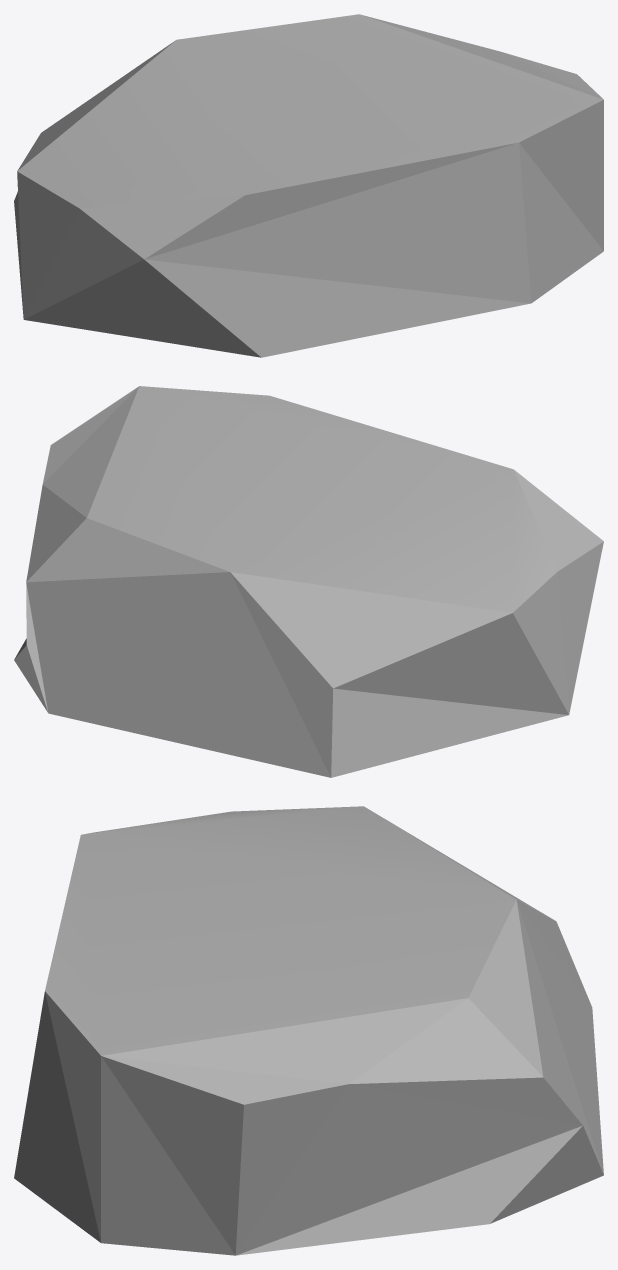
File: Petit_Cailloux_02.fbx
3 renders of one model, top to bottom at view 1: azimuth 30°, elevation 25°; view 2: azimuth 150°, elevation 25°; view 3: azimuth 270°, elevation 25°, orthographic. The views are drawn at different scales.
Parts seen in each view (by area): view 1: Petit_Cailloux_02; view 2: Petit_Cailloux_02; view 3: Petit_Cailloux_02.
Part boxes in pixels (x1,y1,x2,y2): Petit_Cailloux_02: [14, 14, 603, 357]; Petit_Cailloux_02: [14, 386, 603, 777]; Petit_Cailloux_02: [14, 806, 603, 1255].
Size of the model in its own units: 79.81 by 21.56 by 61.56.
1 material, 1 textured.
